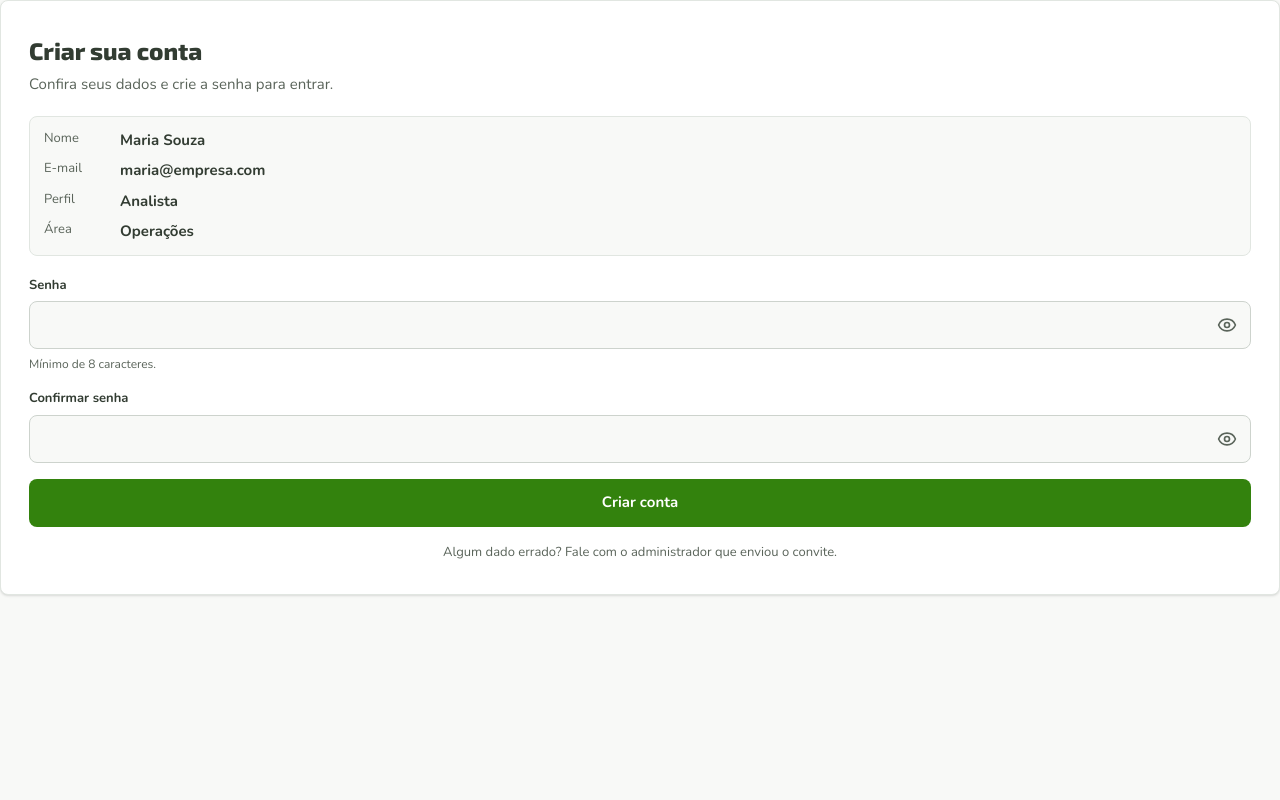
Test: AcceptInvitation › blocks a password shorter than 8 characters
The width and height of the screenshot is (1280, 800).
Expected: the heading "Criar sua conta" is shown, [29,36,202,65]
Type "short12" into the password field labelled "Senha" at (640, 325), box [29,301,1251,349]
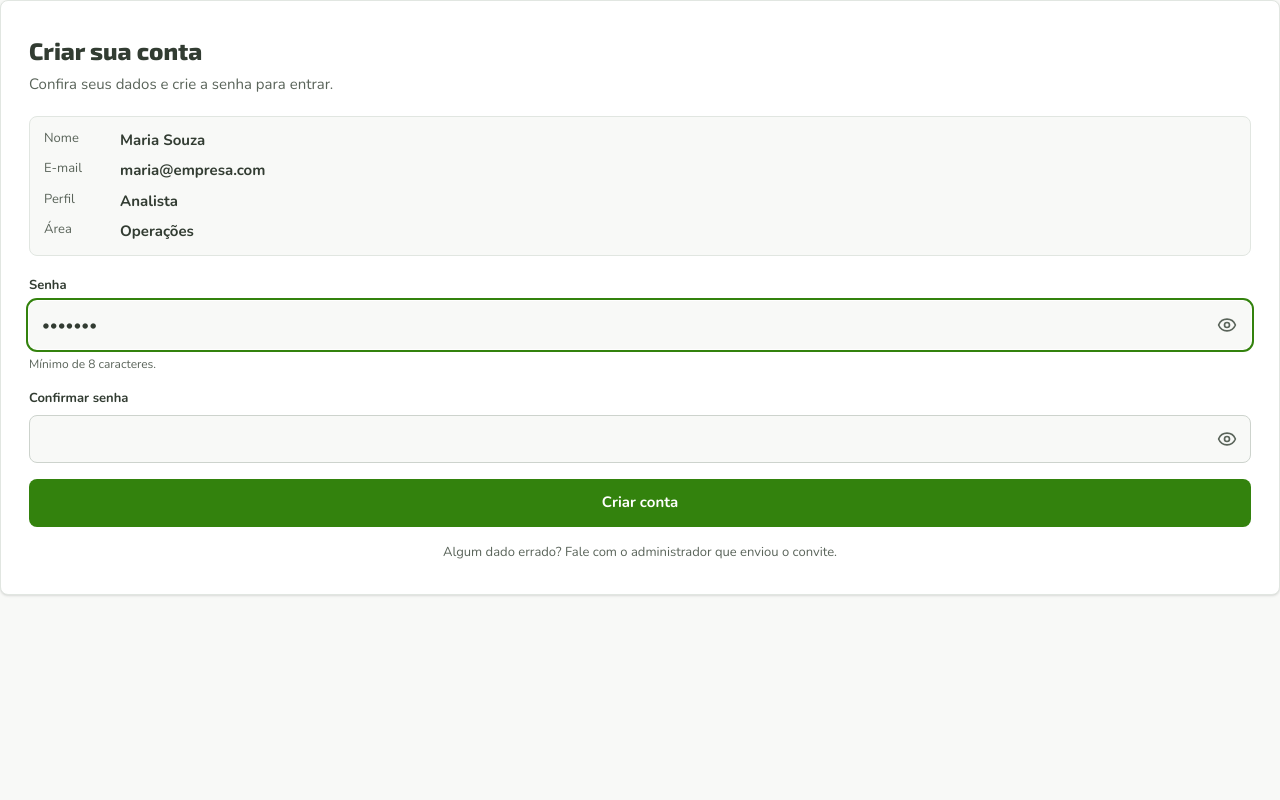
Type "short12" into the password field labelled "Confirmar senha" at (640, 438), box [29,414,1251,462]
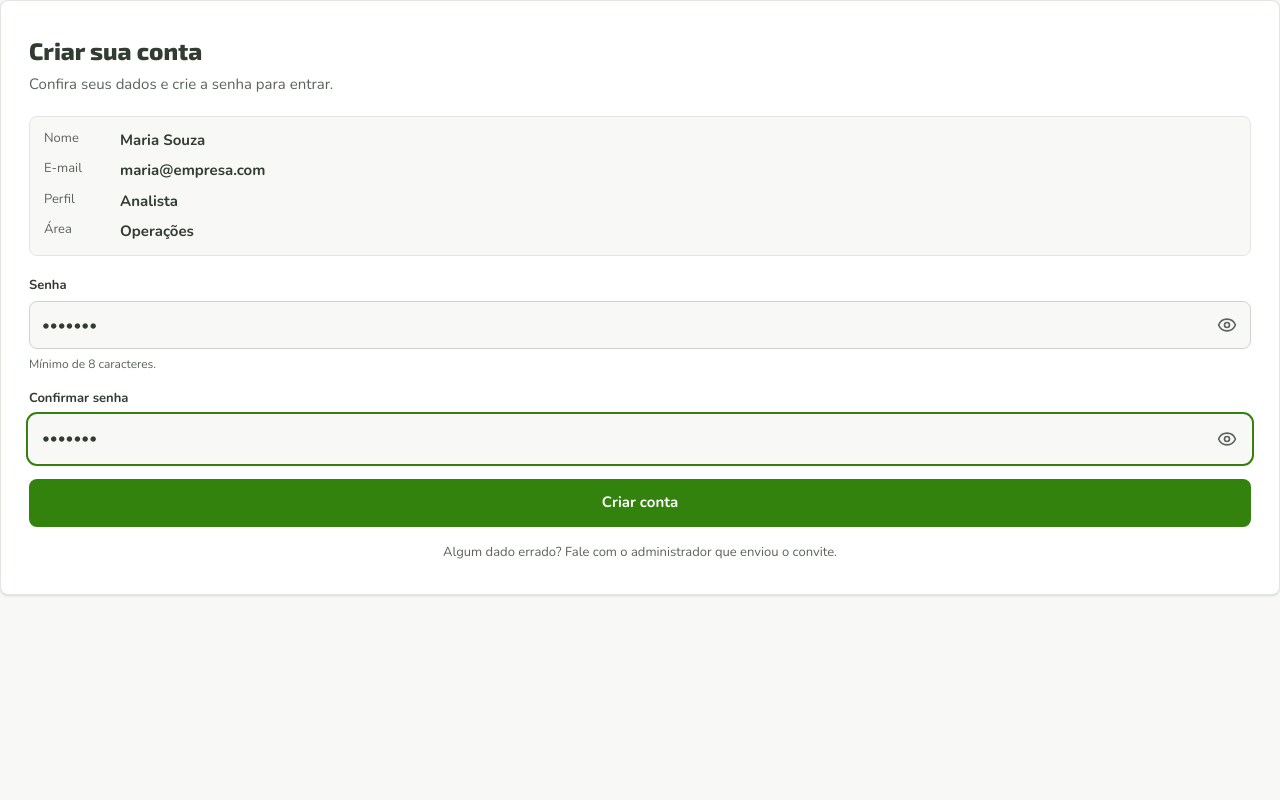
Click the button "Criar conta" at (640, 502), box [29,478,1251,526]
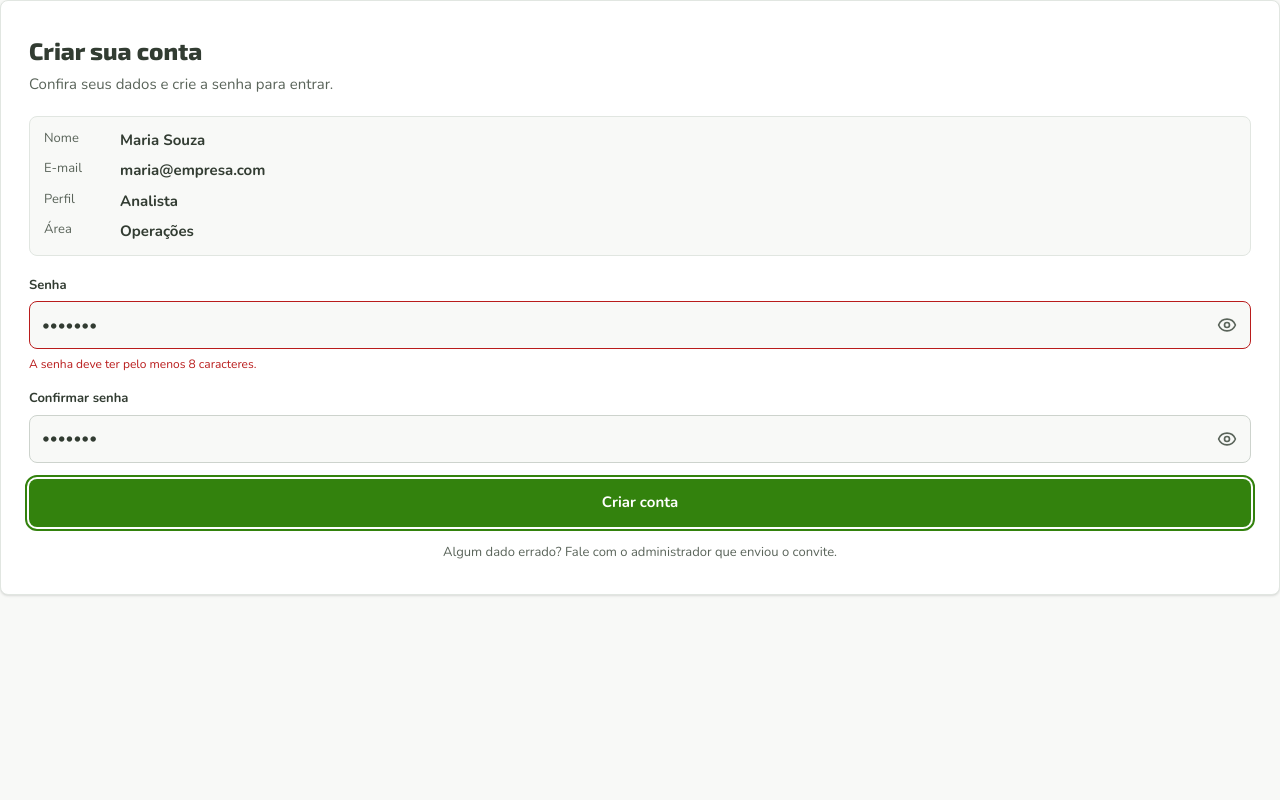
Result: the text "A senha deve ter pelo menos 8 caracteres." is shown at [29,356,256,372]
